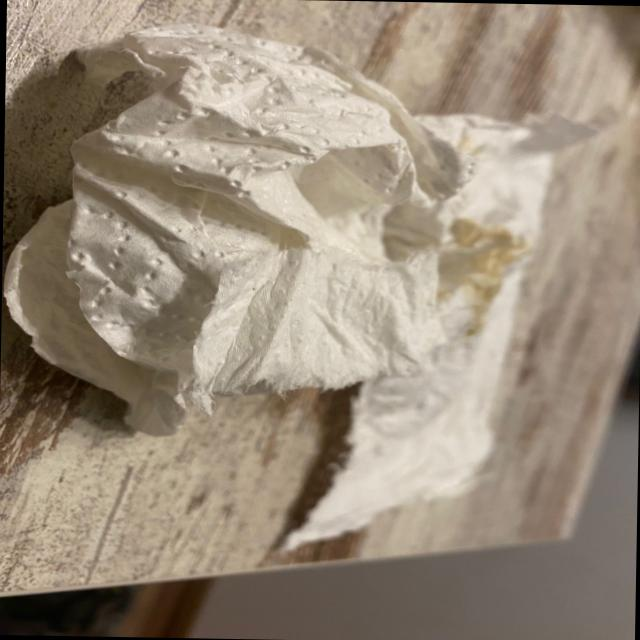organic waste: (0, 21, 629, 559)
